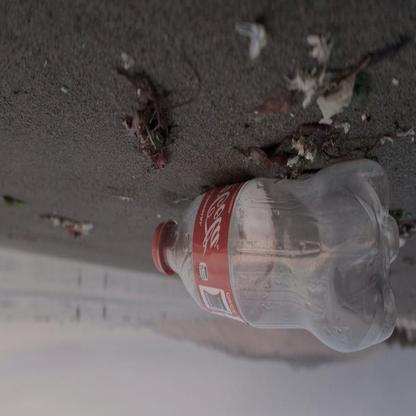plastic bag: (150, 159, 399, 353)
